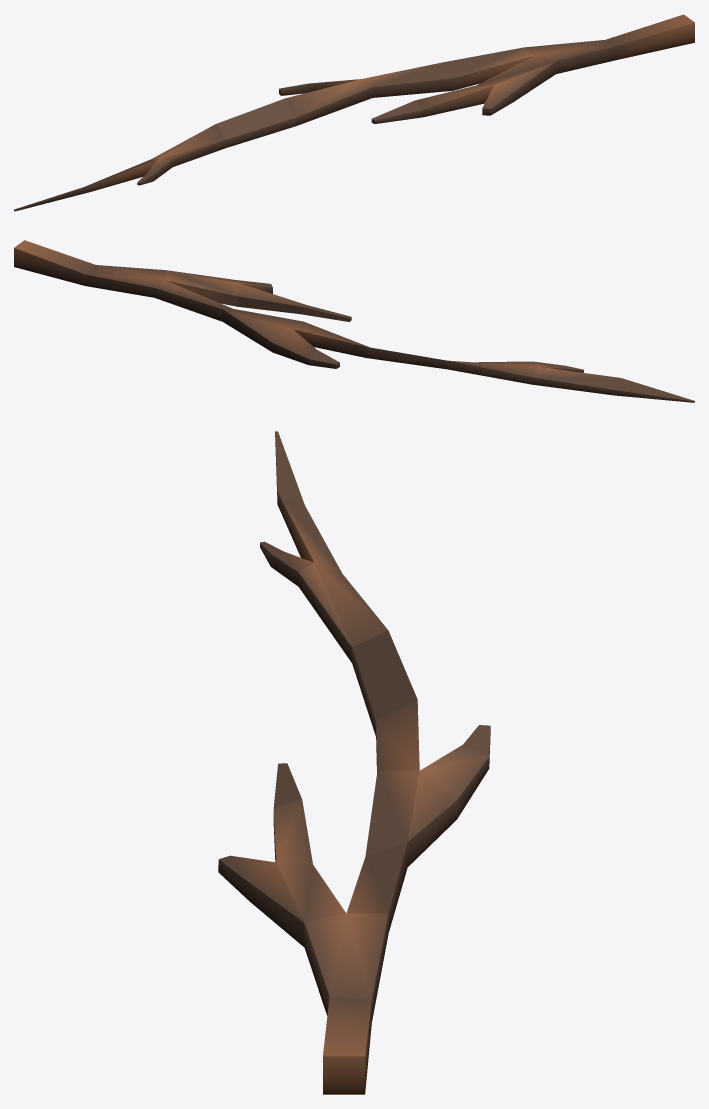
The model's file is Twig_v2_2.fbx.
3 renders of one model, top to bottom at view 1: azimuth 30°, elevation 25°; view 2: azimuth 150°, elevation 25°; view 3: azimuth 270°, elevation 25°, orthographic. The views are drawn at different scales.
Parts seen in each view (by area): view 1: Twig; view 2: Twig; view 3: Twig.
Part boxes in pixels (left/top/right/bottom): Twig: left=14, top=14, right=694, bottom=211; Twig: left=14, top=240, right=694, bottom=402; Twig: left=218, top=431, right=490, bottom=1094.
Bounding box in the file's own units: 135 × 3.75 × 24.15.
